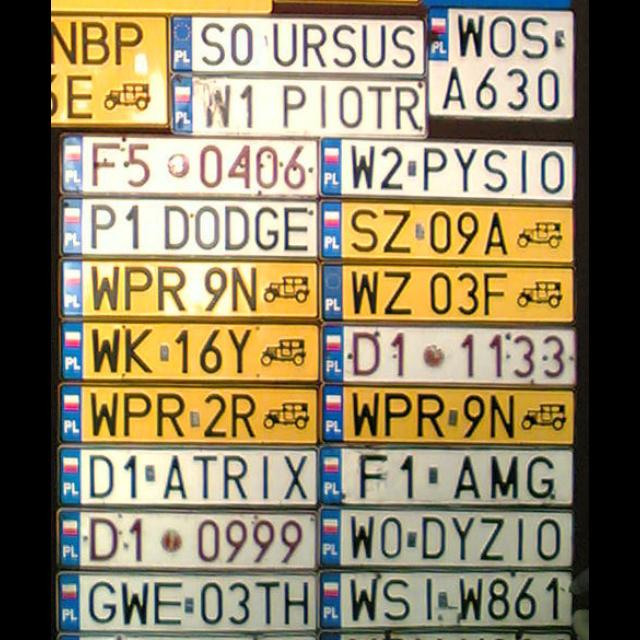pl_license_plate: (428, 7, 572, 118), (171, 15, 425, 75), (171, 76, 425, 136), (61, 134, 315, 194), (318, 138, 572, 198), (62, 197, 316, 257), (60, 258, 314, 318), (62, 321, 316, 381), (57, 446, 315, 504), (55, 572, 313, 630), (55, 509, 313, 566), (321, 324, 579, 381), (57, 386, 315, 442), (317, 202, 575, 258), (319, 264, 577, 320), (320, 387, 572, 441), (320, 447, 572, 501), (320, 508, 570, 562), (320, 571, 570, 625)
